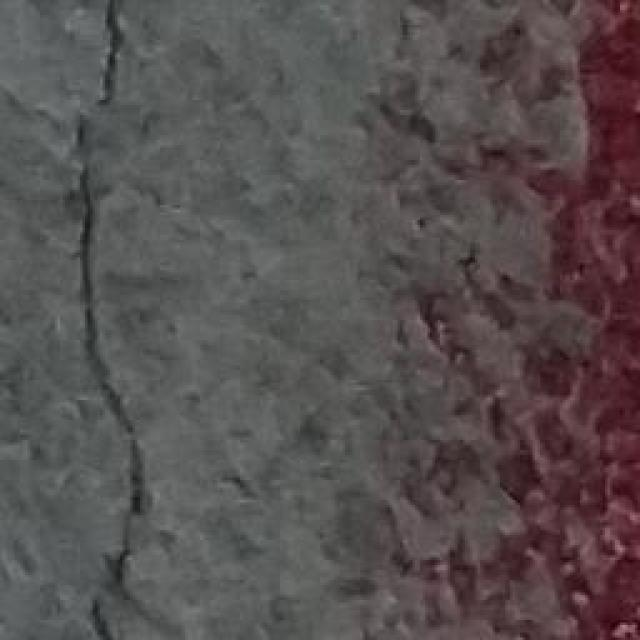Longitudinal: (60, 0, 159, 640)
Rippled: (351, 0, 640, 640)
